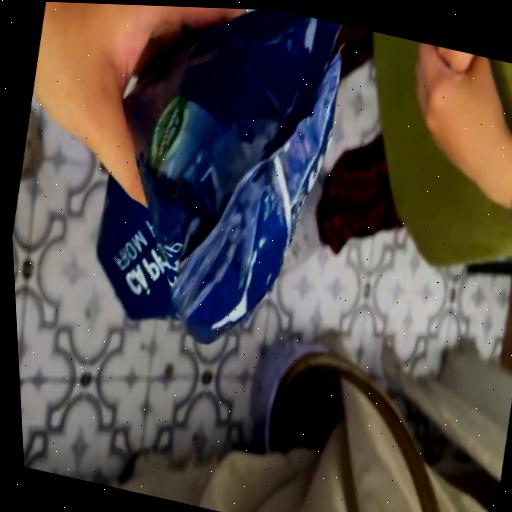cafe_hat: (96, 10, 341, 344)
